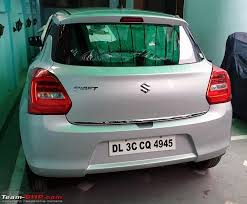Swift: (24, 7, 235, 177)
